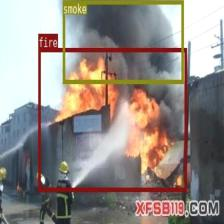fire: (38, 47, 186, 191)
smoke: (62, 0, 183, 83)
